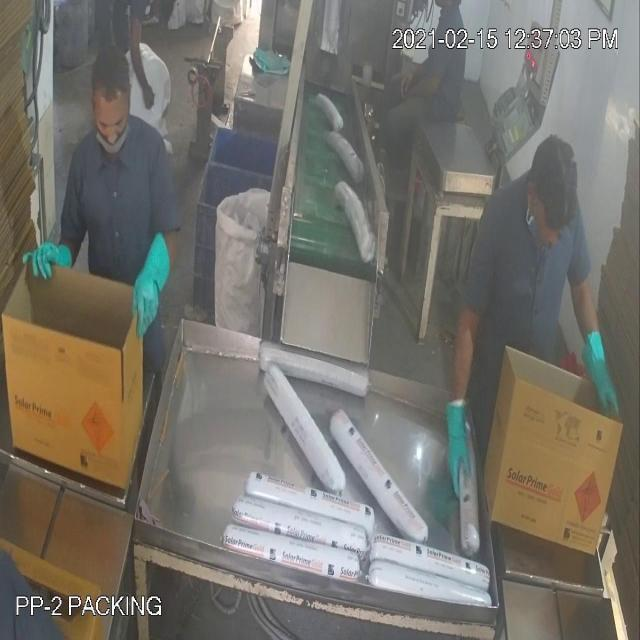Gloves: (38, 48, 601, 446)
